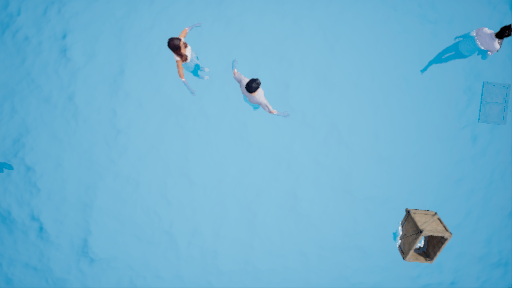person: (422, 19, 512, 79), (158, 27, 210, 98), (230, 60, 281, 120)
